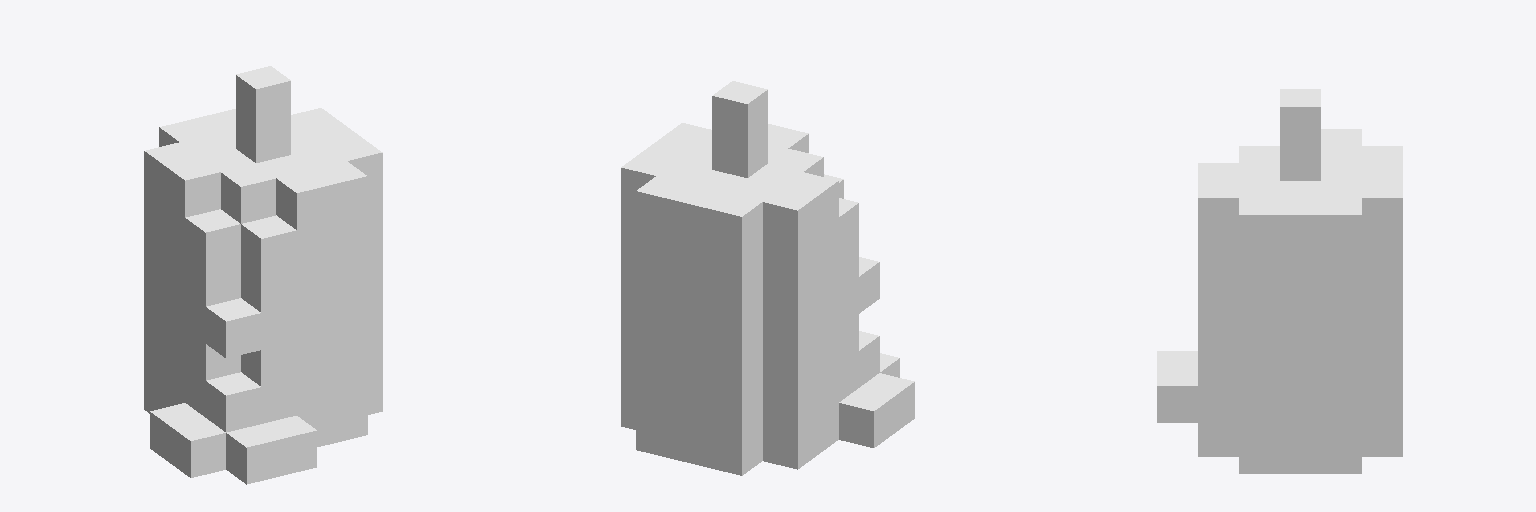
File: Candle.obj
3 views of the same model, side by side, from view 1: azimuth 30°, elevation 25°; view 2: azimuth 150°, elevation 25°; view 3: azimuth 270°, elevation 25° (orthographic).
Visible parts, largest first — view 1: object 1; view 2: object 1; view 3: object 1.
Boxes of the visible parts, x1,y1,x2,y2 form: object 1: [144, 66, 382, 484]; object 1: [621, 81, 914, 475]; object 1: [1157, 89, 1402, 473].
Bounding box in the file's own units: 0.6 × 0.9 × 0.6.